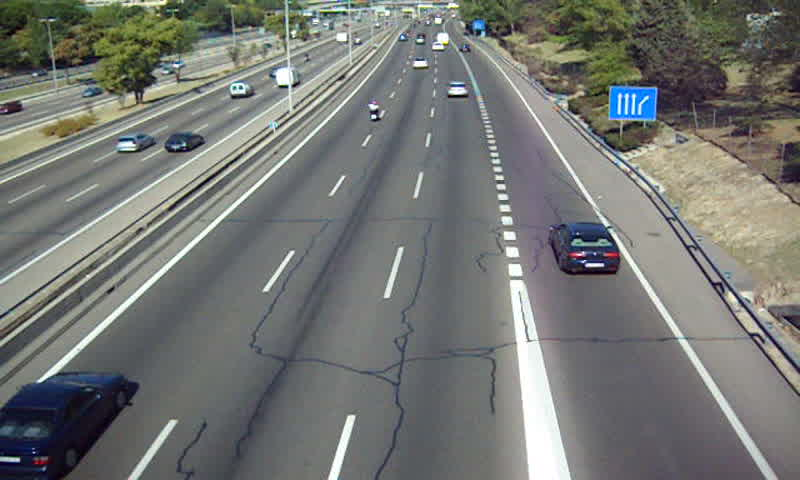car: (1, 372, 126, 480), (551, 223, 619, 273), (447, 81, 469, 97), (410, 56, 429, 70)
motorcycle: (365, 98, 381, 123)
